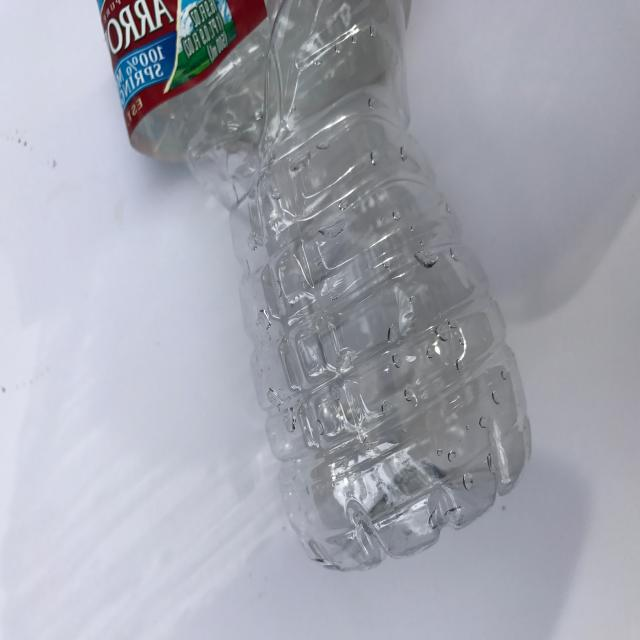plastic: (98, 0, 533, 572)
